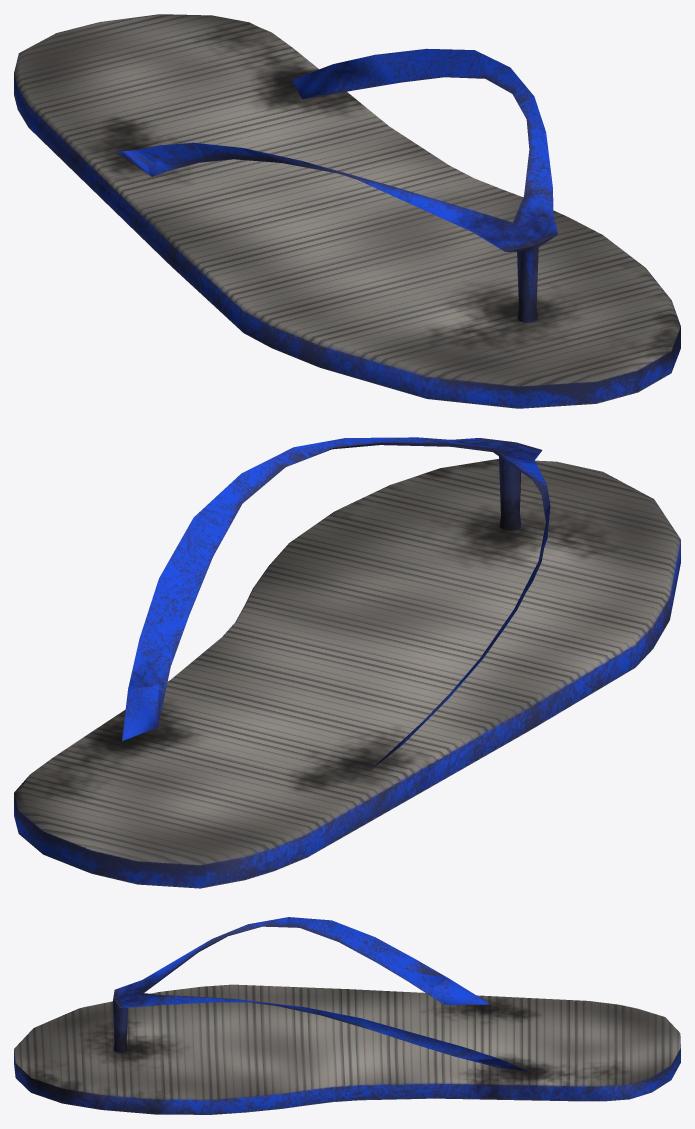
The model's file is Shoes_003_Slipper_Left.obj.
3 views of the same model, one above another, from view 1: azimuth 30°, elevation 25°; view 2: azimuth 150°, elevation 25°; view 3: azimuth 270°, elevation 25° (orthographic). The views are drawn at different scales.
Parts seen in each view (by area): view 1: Slipper_Left; view 2: Slipper_Left; view 3: Slipper_Left.
Part boxes in pixels (x1,y1,x2,y2): Slipper_Left: (14, 14, 680, 408); Slipper_Left: (14, 437, 680, 888); Slipper_Left: (14, 917, 680, 1114).
Size of the model in its own units: 0.1211 by 0.0495 by 0.298.
